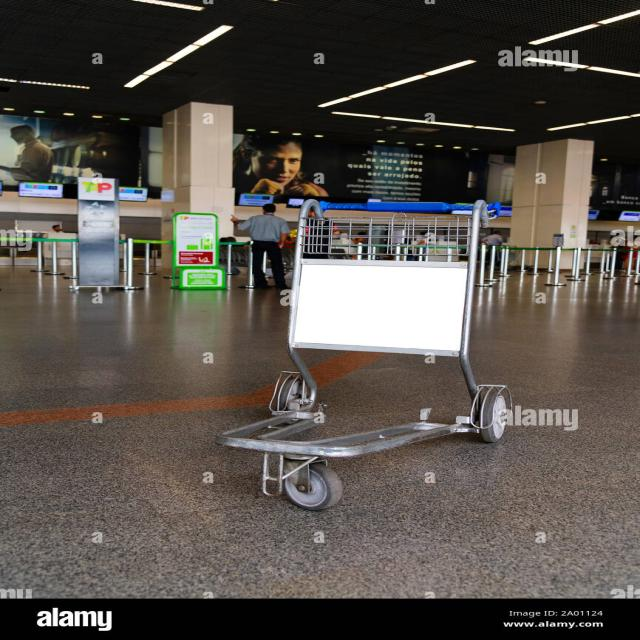Person: (232, 201, 296, 293)
